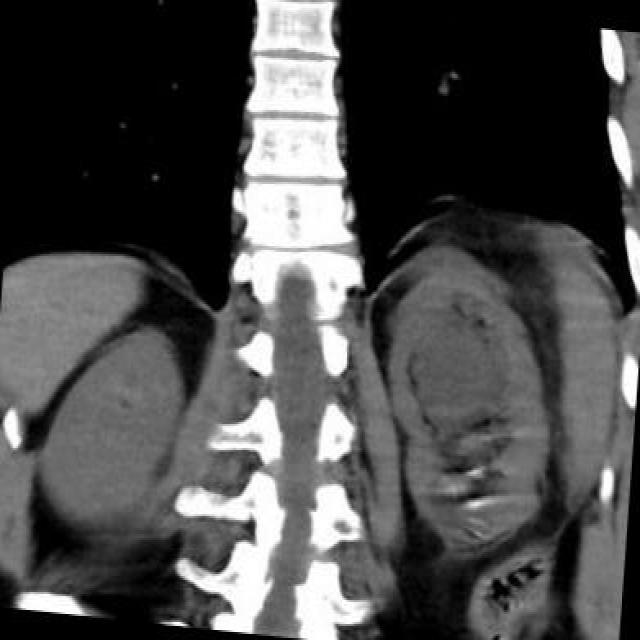Tas_Var: (462, 494, 484, 512), (464, 462, 482, 478)
